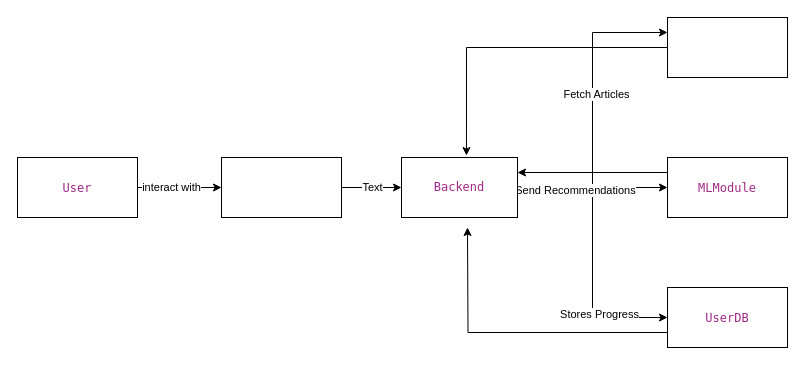
The diagram is 805 pixels wide and 365 high, and some of its shapes have lost their labels. Each missing label, with the centre of its shape:
"ContentDB" belongs at pixel 727 47.
"MobileApp" belongs at pixel 281 187.
